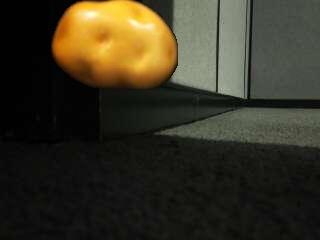Potato: (50, 0, 181, 94)
